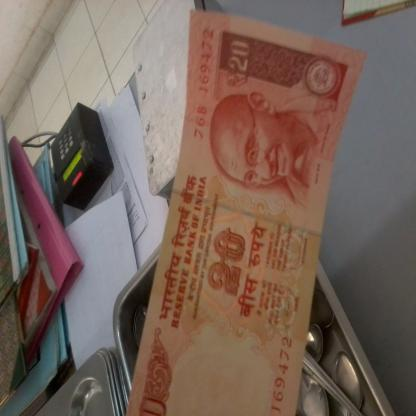Old20Front: (126, 8, 368, 416)
